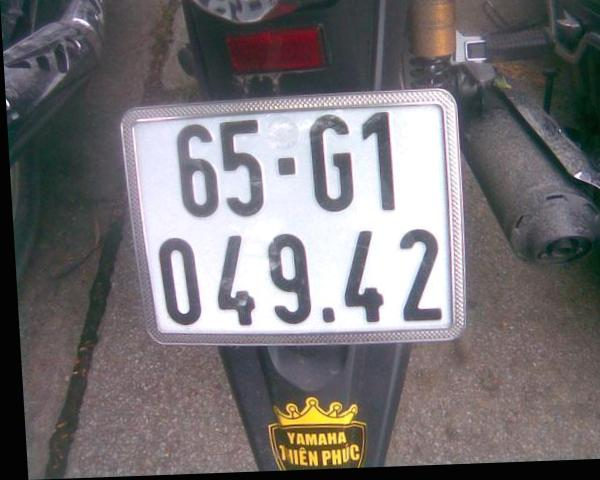License_Plate: (127, 101, 462, 349)
